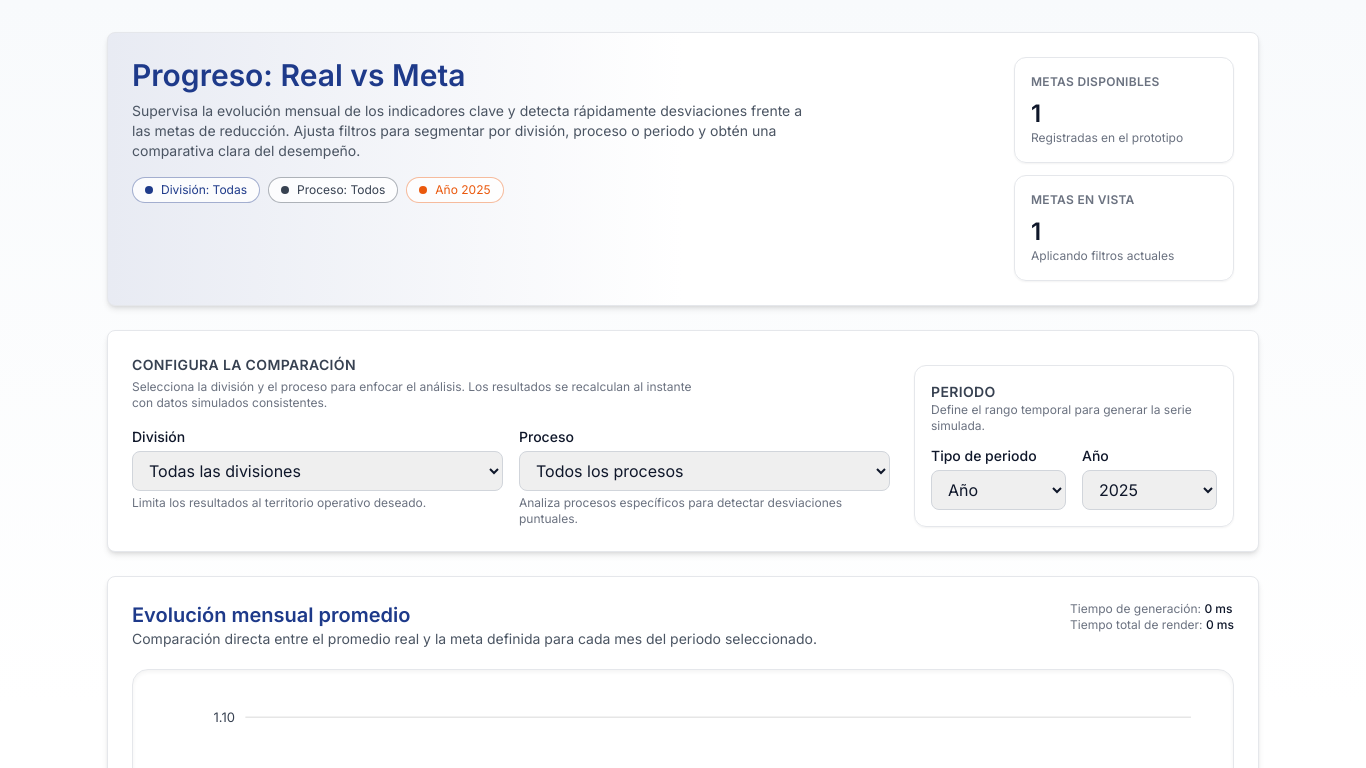
Test case: VistaProgreso › selector de periodo actualiza la vista
Expected: the heading "Progreso: Real vs Meta" is shown, [132,57,465,93]
Select "Trimestre" in the dropdown labelled "Tipo de periodo" at (998, 490), box [931,470,1066,510]
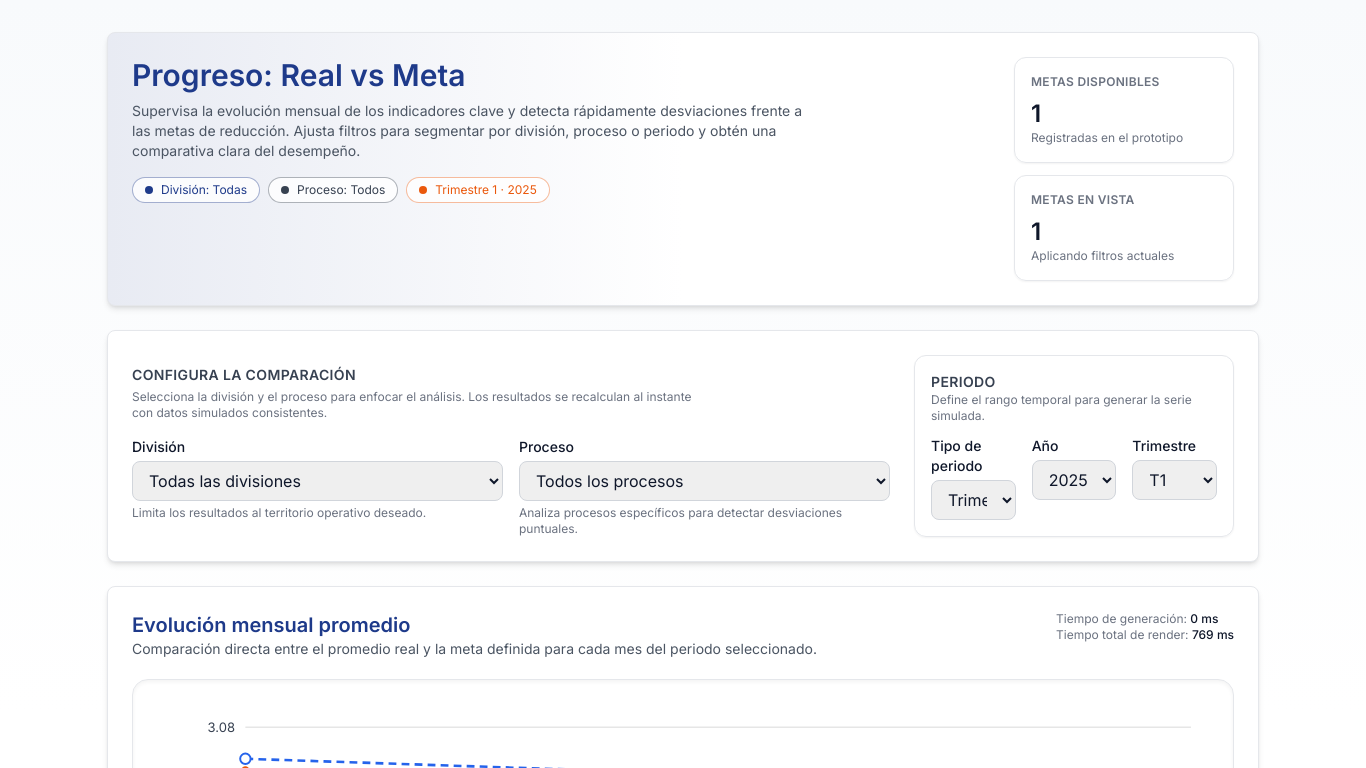
Now the dropdown labelled "Trimestre" is shown, box [1132,460,1217,500]
